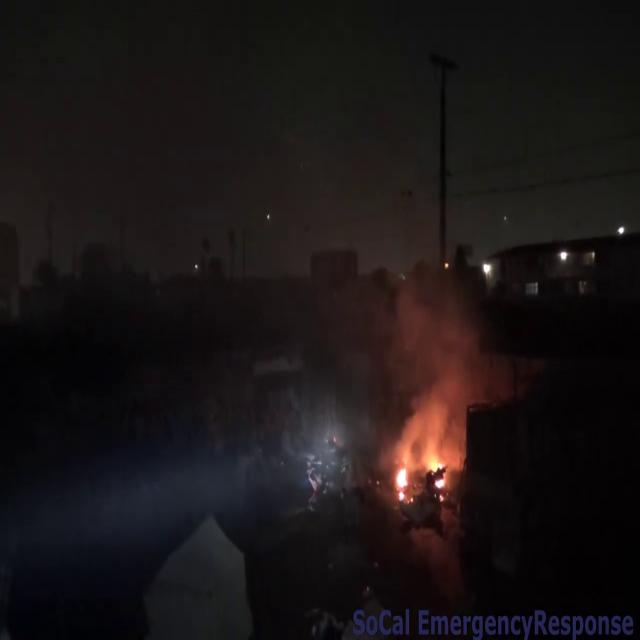Fire: (391, 431, 451, 496)
Smoke: (392, 233, 508, 424)
